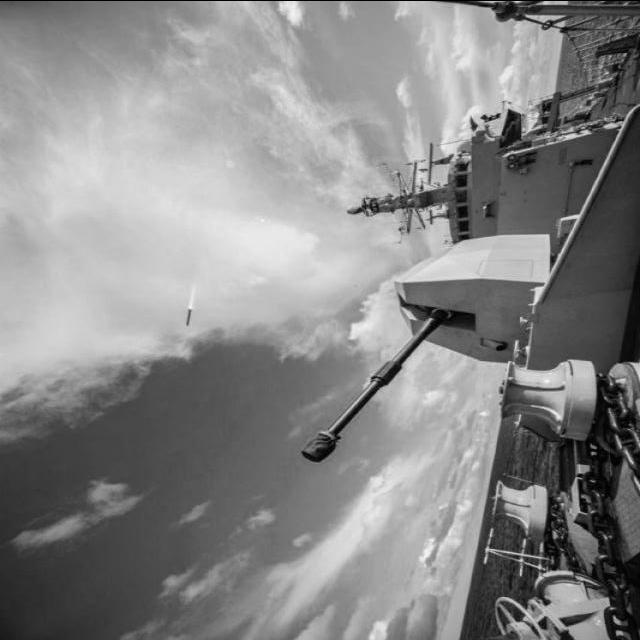Missile: (182, 301, 194, 329)
